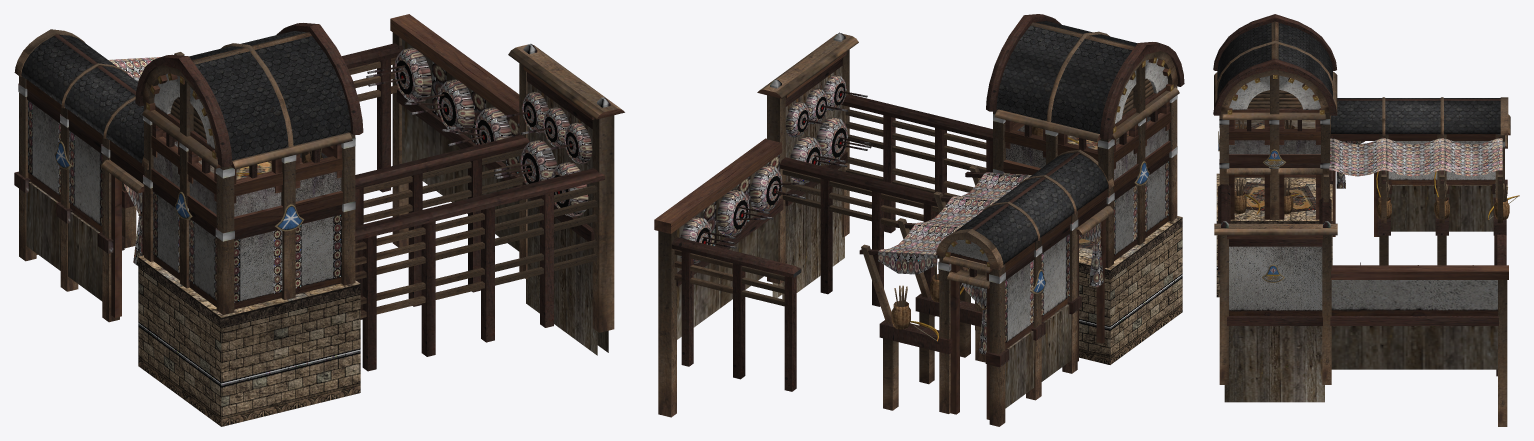
The model's file is maur_range.glb.
3 views of the same model, side by side, from view 1: azimuth 30°, elevation 25°; view 2: azimuth 150°, elevation 25°; view 3: azimuth 270°, elevation 25° (orthographic). The views are drawn at different scales.
Parts seen in each view (by area): view 1: maur_range_part1, maur_range_part0; view 2: maur_range_part1, maur_range_part0; view 3: maur_range_part1, maur_range_part0.
Boxes of the visible parts, x1,y1,x2,y2 form: maur_range_part1: [14, 14, 624, 371]; maur_range_part0: [18, 43, 610, 426]; maur_range_part1: [654, 14, 1184, 426]; maur_range_part0: [703, 32, 1182, 364]; maur_range_part1: [1213, 14, 1519, 426]; maur_range_part0: [1216, 116, 1505, 297].
Size of the model in its own units: 3.8 by 3.58 by 3.56.
Materials: 4 (4 with a texture image).
